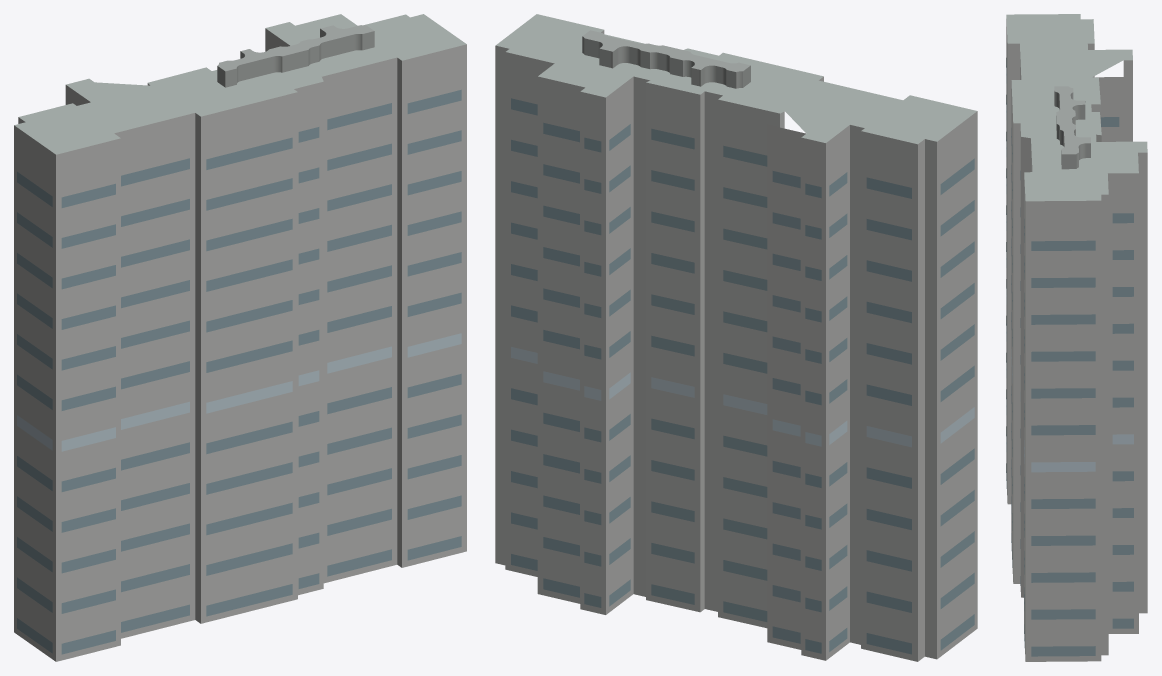
Rendered from fallback-godeok-arteon-completion-314.glb.
The picture shows the model from 3 angles, left to right: view 1: azimuth 30°, elevation 25°; view 2: azimuth 150°, elevation 25°; view 3: azimuth 270°, elevation 25°; orthographic projection. The views are drawn at different scales.
Parts seen in each view (by area): view 1: fallback-godeok-arteon-completion-314; view 2: fallback-godeok-arteon-completion-314; view 3: fallback-godeok-arteon-completion-314.
Boxes of the visible parts, box(x1,y1,x2,y2) form: fallback-godeok-arteon-completion-314: box(14, 14, 466, 661); fallback-godeok-arteon-completion-314: box(495, 14, 977, 661); fallback-godeok-arteon-completion-314: box(1006, 14, 1147, 661).
Size of the model in its own units: 65.11 by 77 by 20.8.
